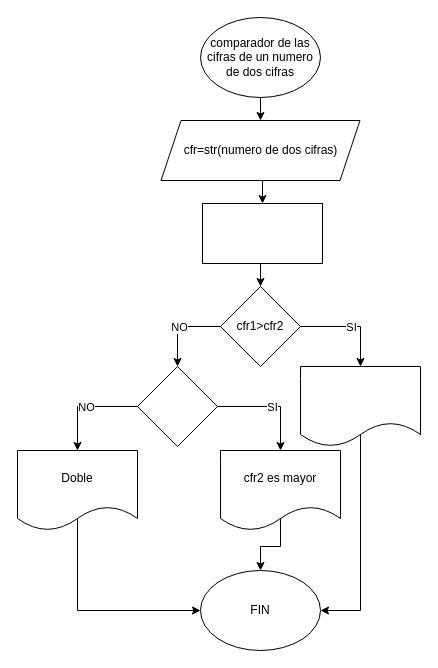
Some shapes in this 438 by 668 pixel diagram are drawn without their labels. Here are the shapes that lost their labels. From the top down, the centre of each, then its label:
At (262,233): "cfr1=int(cfr[0]) cfr2=int(cfr[-1])".
At (177,406): "cfr1<cfr2".
At (360,406): "cfr1 es mayor".
